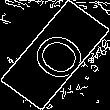O_SE: (19, 22, 91, 88)
